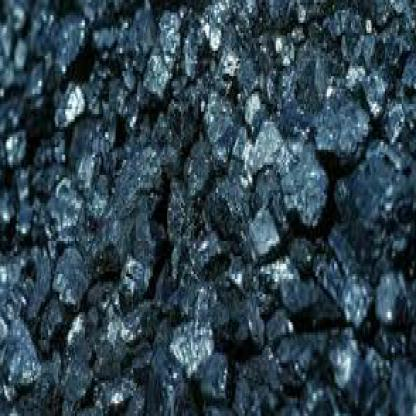Sedimentary_coal: (264, 129, 326, 236), (109, 137, 157, 226), (167, 312, 221, 373), (312, 94, 366, 152), (48, 10, 91, 81), (50, 221, 86, 304), (136, 41, 168, 107), (34, 294, 64, 363), (0, 160, 20, 231)
